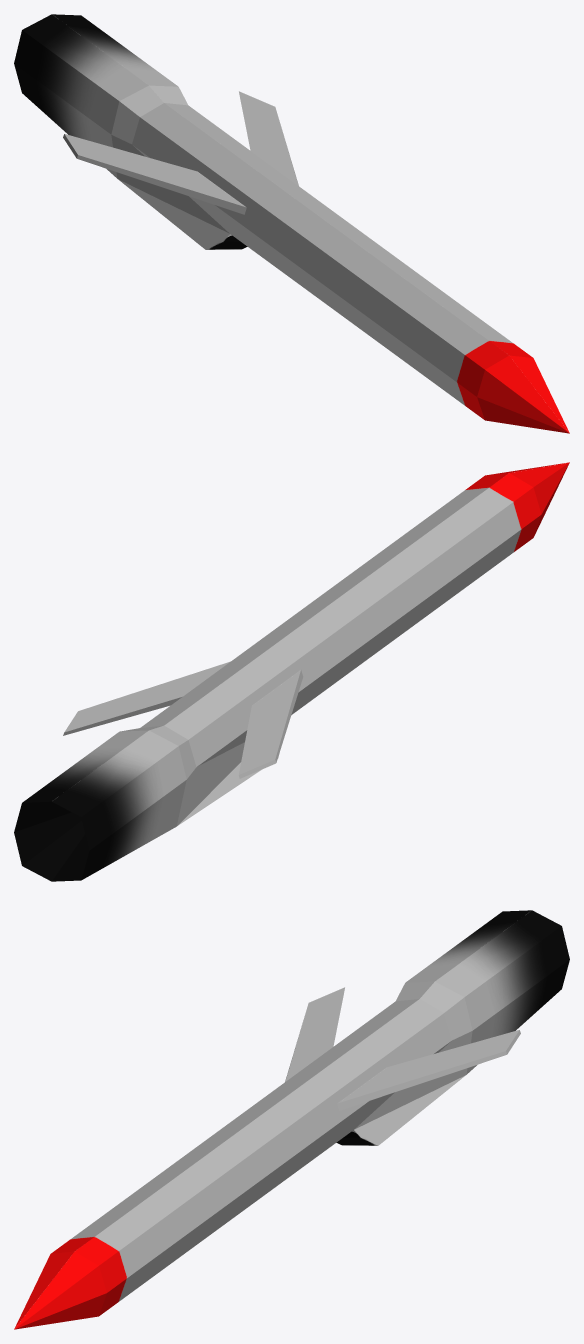
Rendered from HAAM_166.fbx.
3 views of the same model, one above another, from view 1: azimuth 30°, elevation 25°; view 2: azimuth 150°, elevation 25°; view 3: azimuth 330°, elevation 25° (orthographic).
Parts seen in each view (by area): view 1: Cube; view 2: Cube; view 3: Cube.
Part boxes in pixels (bbox=[...]): Cube: bbox=[14, 14, 569, 433]; Cube: bbox=[14, 462, 569, 881]; Cube: bbox=[14, 910, 569, 1329].
Bounding box in the file's own units: 170 × 78.24 × 766.
Materials: 1 (1 with a texture image).
